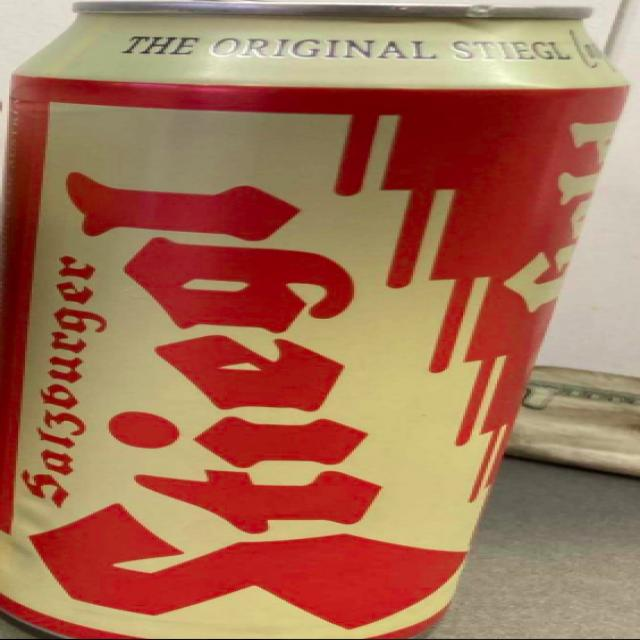STIEGL Goldbrau: (2, 0, 640, 640)
